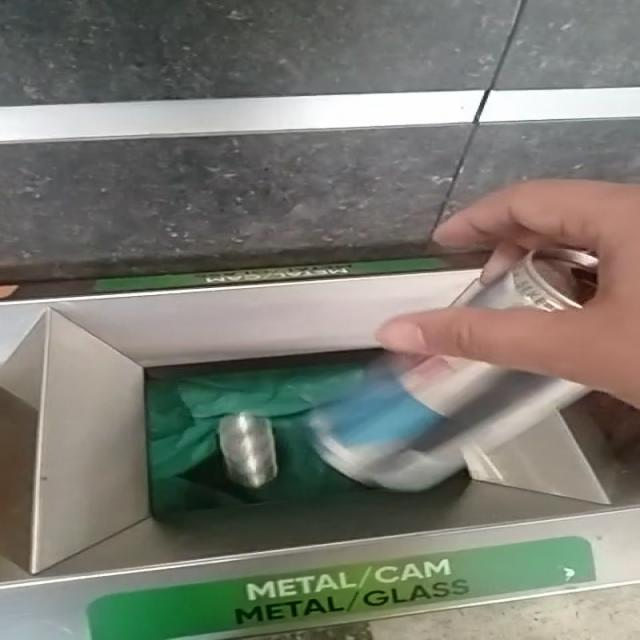bin: (1, 259, 639, 640)
metal: (309, 354, 591, 492), (447, 250, 600, 312), (220, 414, 277, 488)
